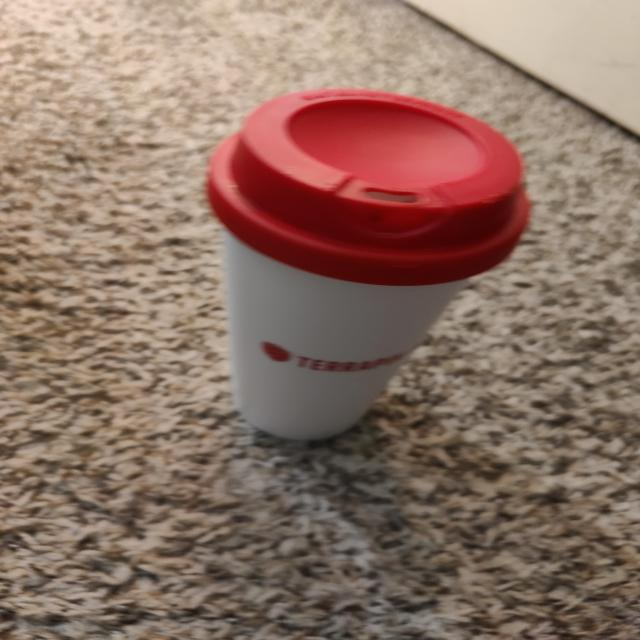mug: (213, 103, 527, 433)
